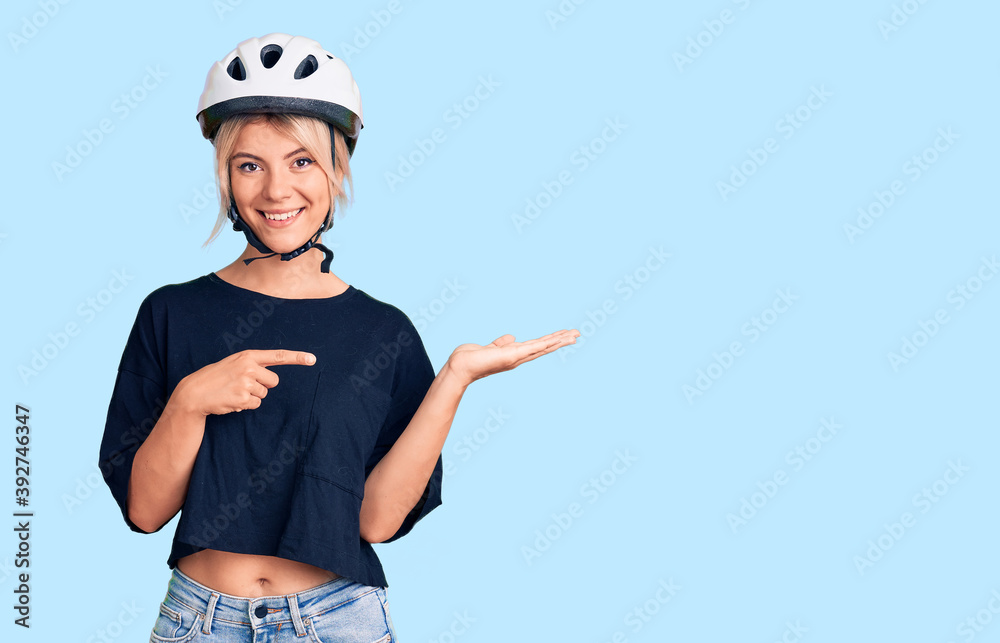helmet: (195, 32, 365, 253)
